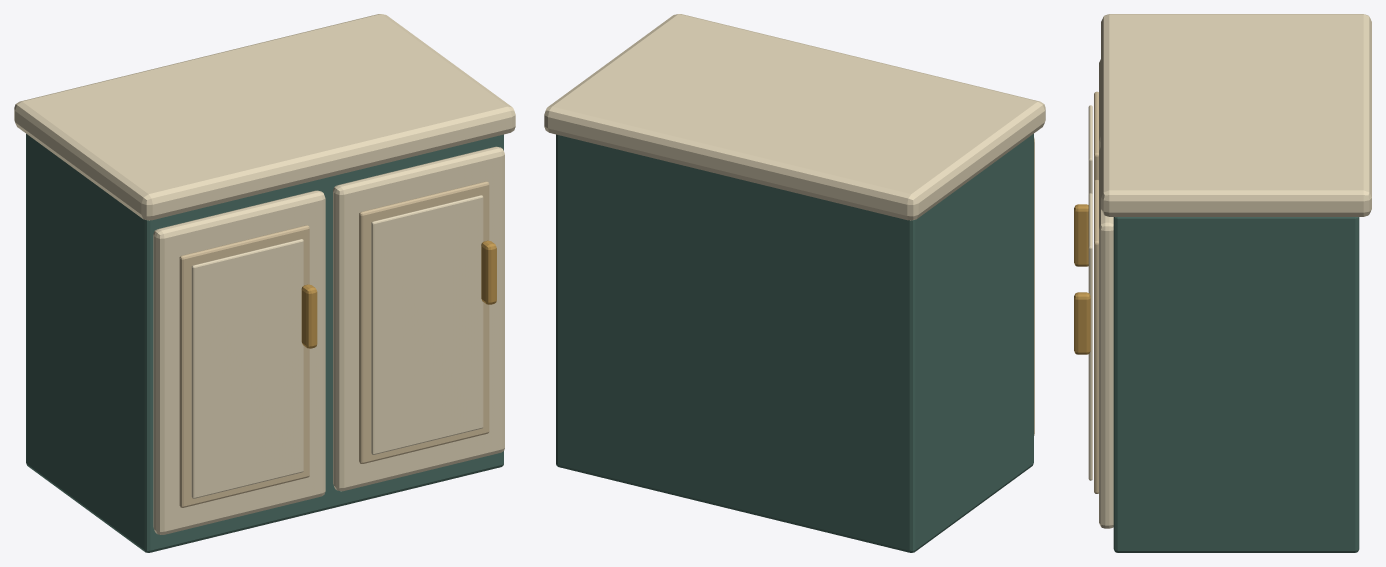
The model's file is SM_CH_Story_UpperCabinet.fbx.
3 renders of one model, left to right at view 1: azimuth 30°, elevation 25°; view 2: azimuth 150°, elevation 25°; view 3: azimuth 270°, elevation 25°, orthographic.
Visible parts, largest first — view 1: SM_CH_Story_UpperCabinet; view 2: SM_CH_Story_UpperCabinet; view 3: SM_CH_Story_UpperCabinet.
Boxes of the visible parts, x1,y1,x2,y2 form: SM_CH_Story_UpperCabinet: (14,14,515,552); SM_CH_Story_UpperCabinet: (544,14,1045,552); SM_CH_Story_UpperCabinet: (1074,14,1371,552).
Bounding box in the file's own units: 10400 × 7150 × 9650.
